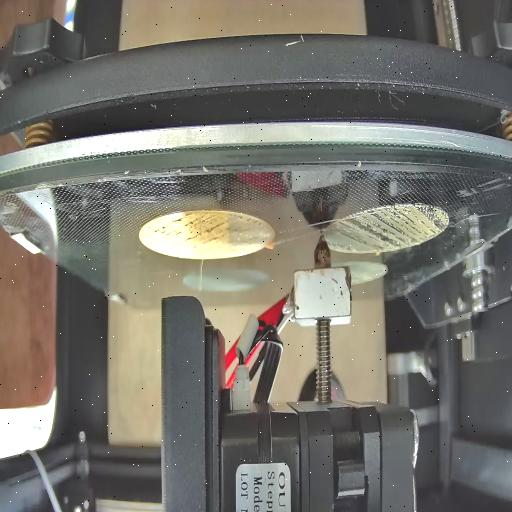under_extrusion: (336, 212, 446, 246), (149, 207, 237, 243), (240, 212, 267, 228)
